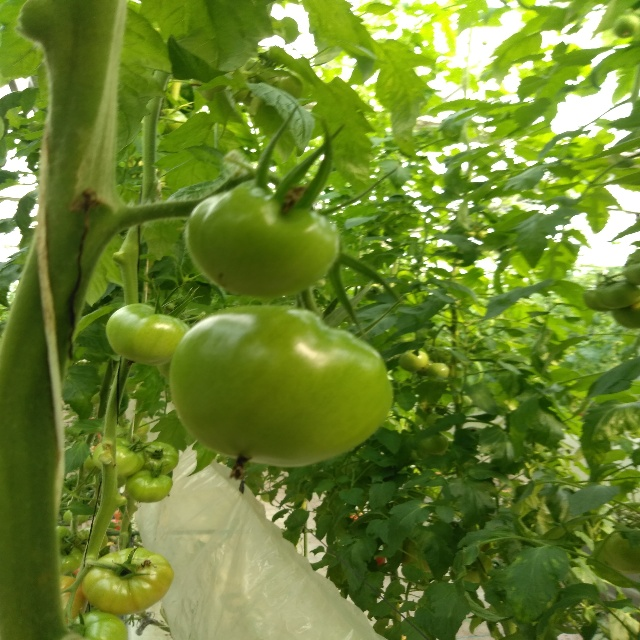b_green: (168, 305, 393, 468), (184, 186, 341, 299), (107, 303, 190, 366), (92, 438, 145, 478), (67, 611, 128, 640), (125, 470, 174, 504), (594, 278, 640, 308), (139, 442, 180, 475), (72, 526, 108, 555), (60, 545, 84, 574), (400, 350, 428, 372), (426, 363, 449, 381), (57, 526, 73, 549)
b_half_ripened: (83, 547, 174, 615), (61, 574, 88, 625)
